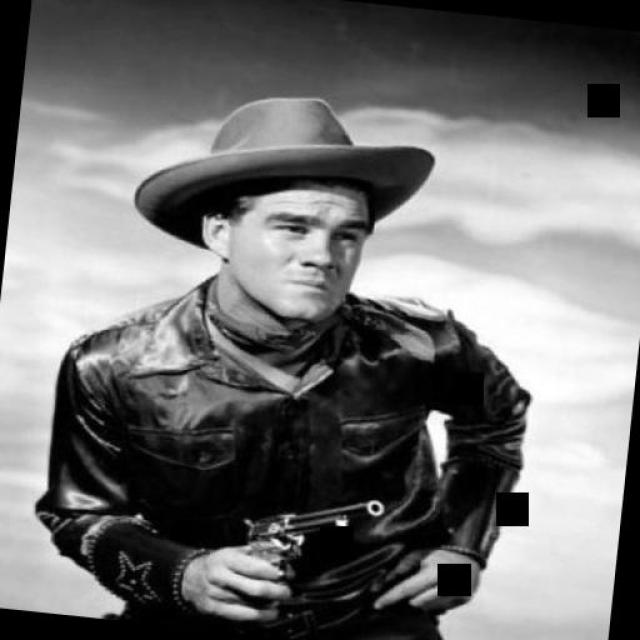gun: (228, 484, 388, 621)
